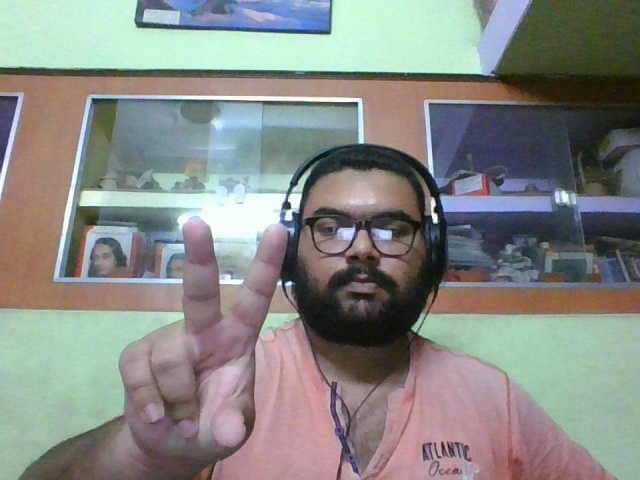iloveyou: (119, 217, 286, 461)
